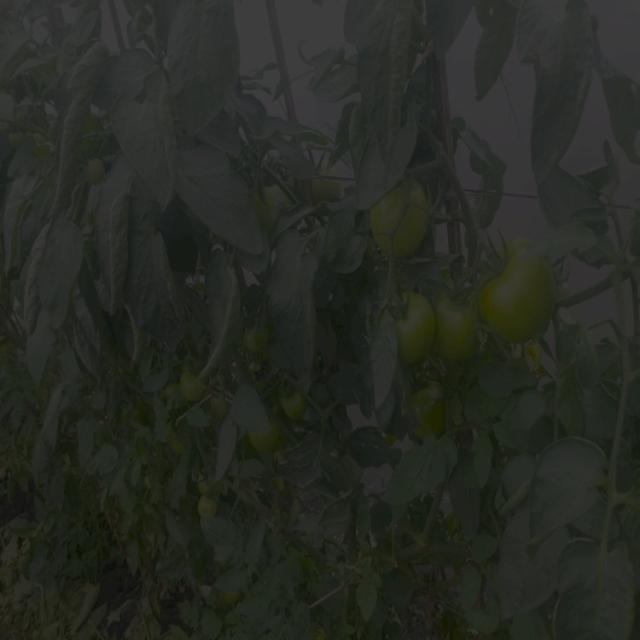tomato: (487, 237, 561, 351), (434, 290, 492, 362), (396, 288, 439, 364), (377, 195, 428, 258), (416, 389, 447, 436), (179, 362, 214, 402), (278, 392, 312, 431), (266, 176, 292, 217), (250, 425, 282, 457), (199, 488, 226, 519), (83, 152, 107, 182), (247, 326, 266, 352)
